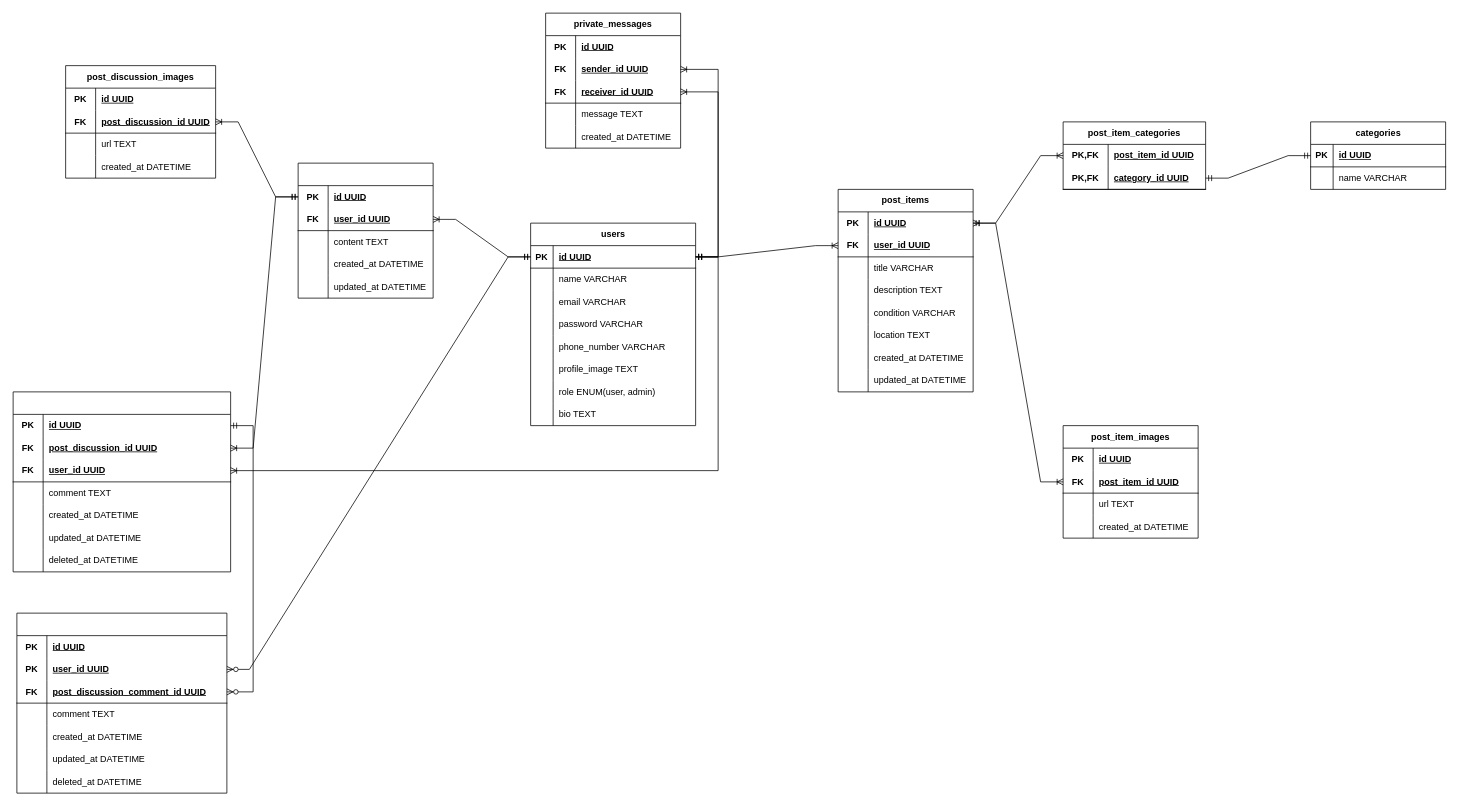
Image size: 1459x806. Some labels were removed from this diagram. The shapes that lost their labels are listed below. From the top down, each one's box as (x1, y1, x2, y2) in pixels, then its label:
(297, 162, 433, 298): post_discussions
(12, 391, 231, 572): post_discussion_comments
(16, 612, 227, 793): post_dissucission_reply_comments
